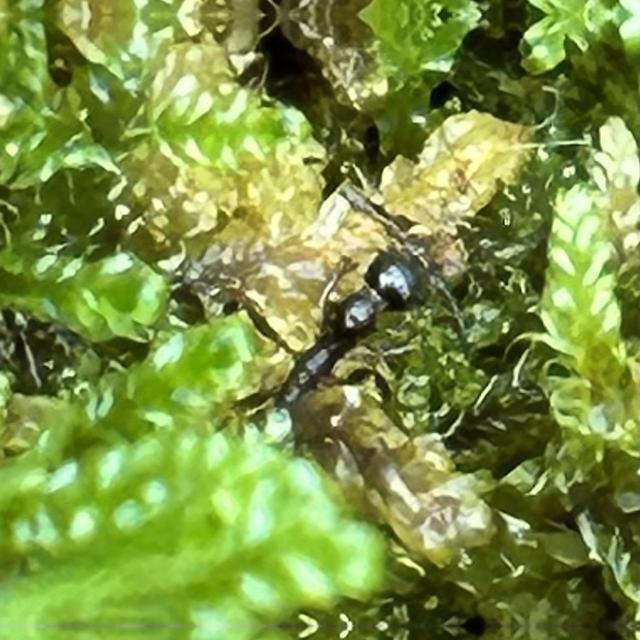Apheanogaster: (210, 207, 472, 477)
